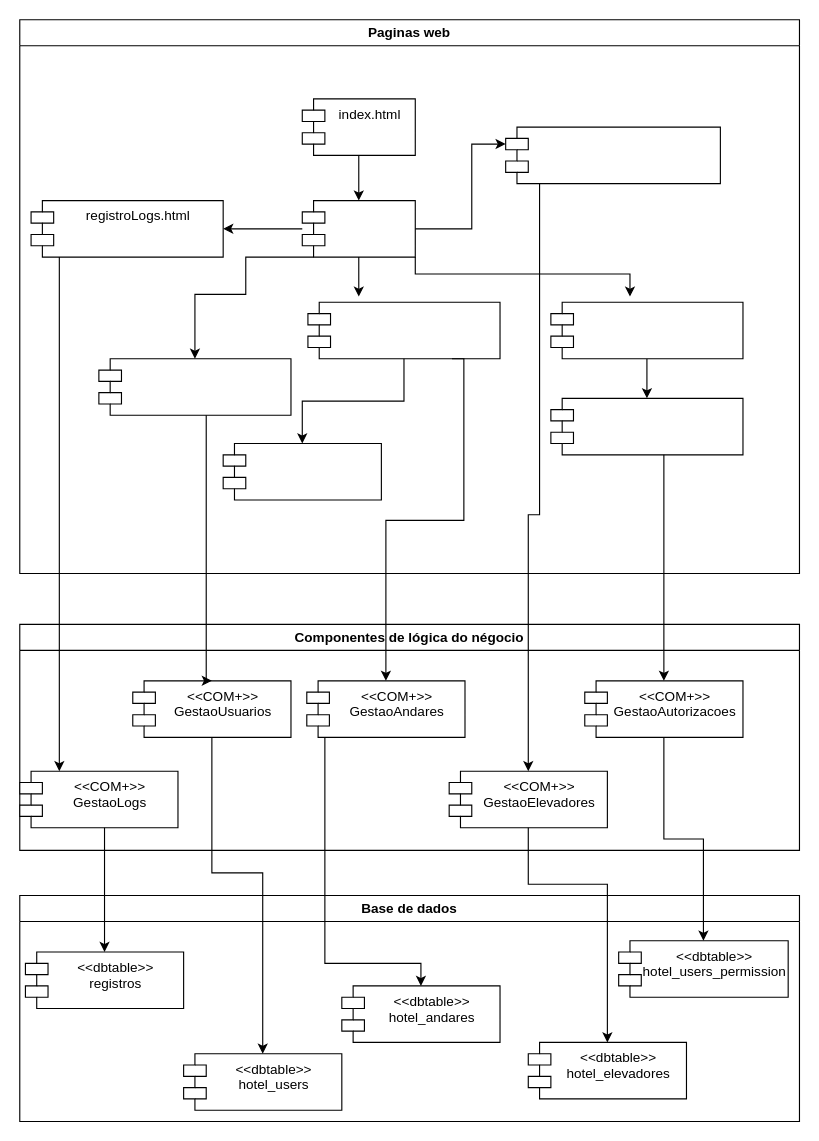
This 819x1141 diagram has some shape labels left out. The shapes that lost their labels are listed below. From the top down, each one's centre as x and y in pixels, then its label:
the point at 612,155: configuracaoElevadores.html
the point at 358,228: login.html
the point at 403,330: configuracaoAndares.html
the point at 646,330: listaUsuarios.html
the point at 194,386: cadastrarUsuario.html
the point at 646,426: gerenciaAutorizacoes.html
the point at 301,471: andaresVip.html
